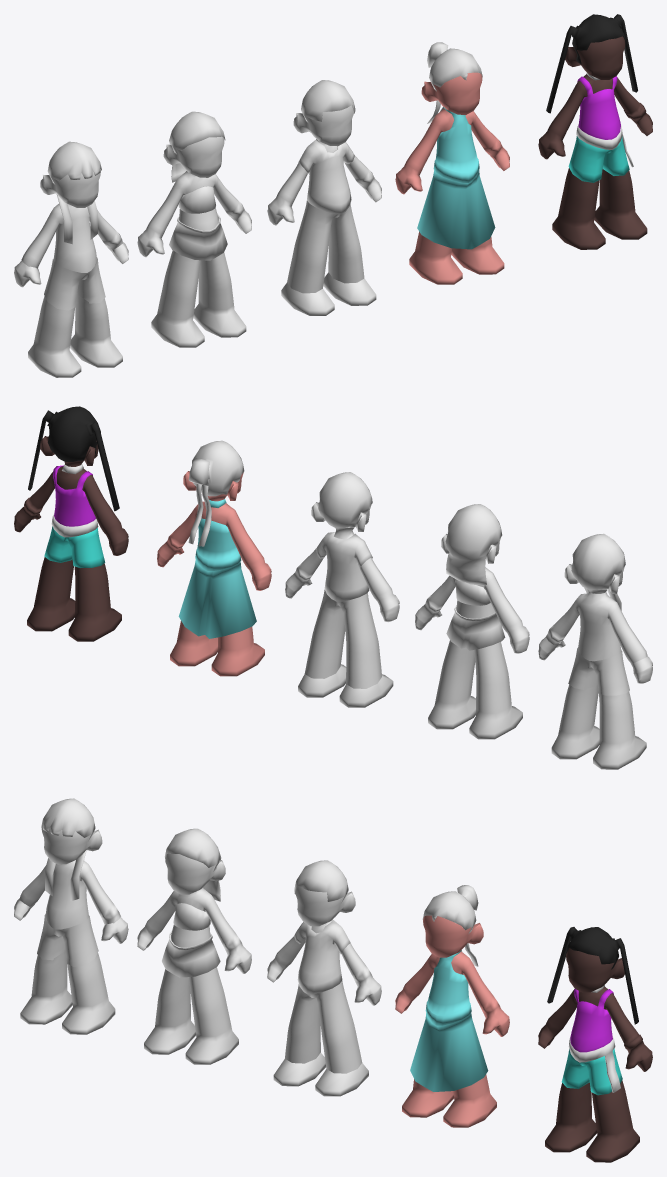
The model's file is Npc´s.fbx.
3 views of the same model, one above another, from view 1: azimuth 30°, elevation 25°; view 2: azimuth 150°, elevation 25°; view 3: azimuth 330°, elevation 25° (orthographic).
Visible parts, largest first — view 1: Character_base.007, Character_base, Character_base.008, Character_base.005, Character_base.010, Character_base.006, Character_base.016, Character_base.019, Character_base.015, Character_base.014, Character_base.009, Character_base.020 (+8 smaller); view 2: Character_base.007, Character_base, Character_base.008, Character_base.005, Character_base.010, Character_base.016, Character_base.006, Character_base.019, Character_base.013, Character_base.009, Character_base.011, Character_base.015 (+7 smaller); view 3: Character_base.007, Character_base, Character_base.008, Character_base.005, Character_base.010, Character_base.006, Character_base.016, Character_base.019, Character_base.015, Character_base.014, Character_base.009, Character_base.020 (+8 smaller).
Part boxes in pixels (x1,y1,x2,y2): Character_base.007: (137, 137, 251, 347); Character_base: (538, 36, 652, 249); Character_base.008: (14, 170, 128, 377); Character_base.005: (395, 72, 509, 284); Character_base.010: (417, 107, 495, 249); Character_base.006: (267, 105, 381, 315); Character_base.016: (287, 201, 364, 293); Character_base.019: (21, 203, 123, 272); Character_base.015: (298, 140, 354, 214); Character_base.014: (47, 141, 101, 244); Character_base.009: (546, 14, 637, 113); Character_base.020: (44, 257, 105, 310); Character_base.007: (415, 534, 529, 739); Character_base: (14, 436, 128, 641); Character_base.008: (538, 564, 652, 769); Character_base.005: (157, 471, 271, 676); Character_base.010: (178, 499, 256, 638); Character_base.016: (304, 589, 381, 688); Character_base.006: (285, 502, 399, 707); Character_base.019: (546, 592, 647, 663); Character_base.013: (445, 504, 502, 584); Character_base.009: (28, 406, 119, 511); Character_base.011: (188, 440, 244, 546); Character_base.015: (316, 532, 372, 601); Character_base.007: (137, 853, 251, 1064); Character_base: (538, 948, 652, 1162); Character_base.008: (14, 825, 128, 1034); Character_base.005: (395, 915, 509, 1127); Character_base.010: (410, 950, 488, 1091); Character_base.006: (267, 886, 381, 1096); Character_base.016: (285, 981, 362, 1073); Character_base.019: (19, 860, 120, 929); Character_base.015: (294, 920, 350, 994); Character_base.014: (41, 798, 95, 900); Character_base.009: (547, 927, 638, 1024); Character_base.020: (37, 914, 98, 966).
Size of the model in its own units: 8867 by 2891 by 1014.
